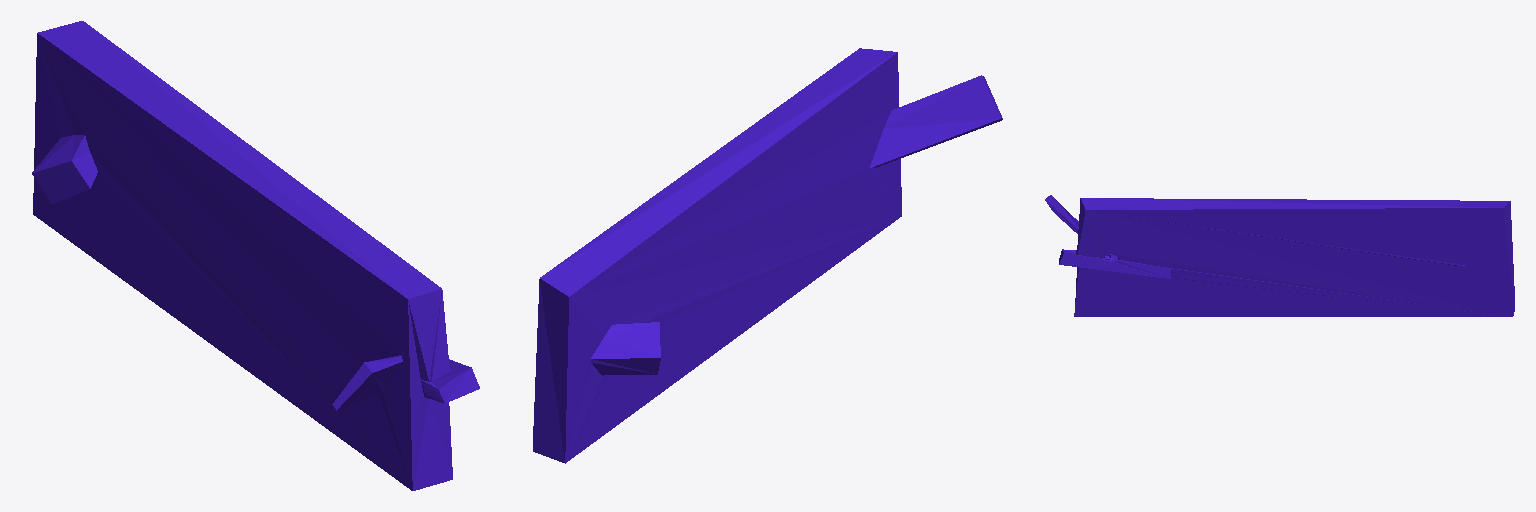
robot.urdf — blob772:

<robot name="blob772">
  <link name="random_obj_772">
    <contact>
      <lateral_friction value="1.0"/>
      <rolling_friction value="0.0"/>
      <inertia_scaling value="3.0"/>
      <contact_cfm value="0.0"/>
      <contact_erp value="1.0"/>
    </contact>
    <inertial>
      <origin rpy="0 0 0" xyz="0 0 0"/>
      <mass value="0.0553"/>
      <inertia ixx="1" ixy="0" ixz="0" iyy="1" iyz="0" izz="0"/>
    </inertial>
    <visual>
      <origin rpy="0 0 0" xyz="0 0 0"/>
      <geometry>
        <mesh filename="772.obj" scale="0.0068 0.0068 0.0068"/>
      </geometry>
      <material name="blockmat">
        <color rgba="0.34 0.18 0.83 1"/>
      </material>
    </visual>
    <collision>
      <origin rpy="0 0 0" xyz="0 0 0"/>
      <geometry>
        <mesh filename="772_coll.obj" scale="0.0068 0.0068 0.0068"/>
      </geometry>
    </collision>
  </link>
</robot>

--- Facts derived from the render (not from the file) ---
Views: 3 orthographic renders of the robot side by side, from view 1: azimuth 30°, elevation 25°; view 2: azimuth 150°, elevation 25°; view 3: azimuth 270°, elevation 25°.
Model blob772 with 1 links and 0 joints (none), rooted at random_obj_772, posed all joints at 0.
Links seen in each view (by area): view 1: random_obj_772; view 2: random_obj_772; view 3: random_obj_772.
Link boxes in pixels (x1,y1,x2,y2): random_obj_772: (32,21,479,490); random_obj_772: (533,48,1002,463); random_obj_772: (1045,195,1514,316).
Size in the robot's own frame: 0.019 by 0.0889 by 0.0232 metres.
1 mesh visuals loaded from 1 distinct referenced files (1 OBJ).
